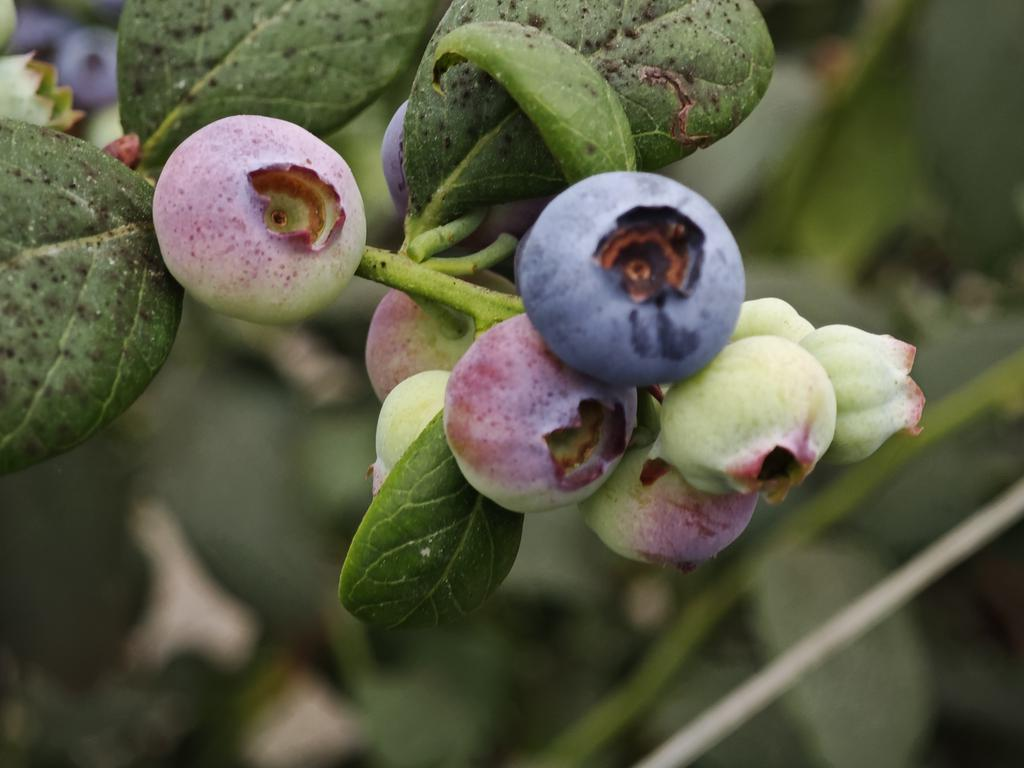RipeBlueBerry: (517, 165, 748, 387)
Semi-RipeBlueBerry: (150, 110, 372, 327), (443, 310, 641, 517)
UnripeBlueBerry: (660, 332, 840, 500)
